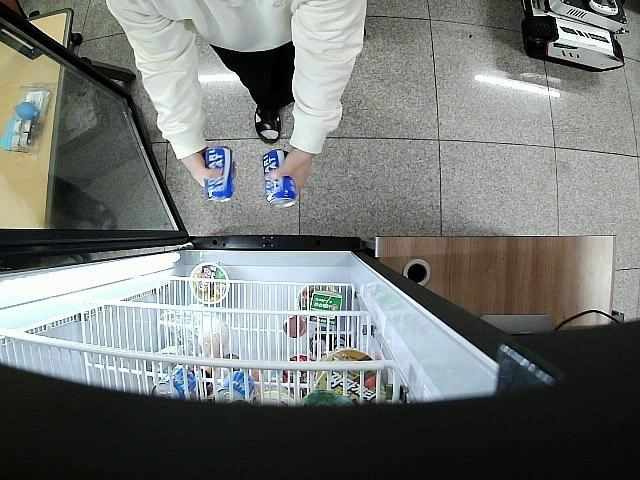13_pocariSweat: (264, 146, 296, 208), (207, 145, 234, 202)
